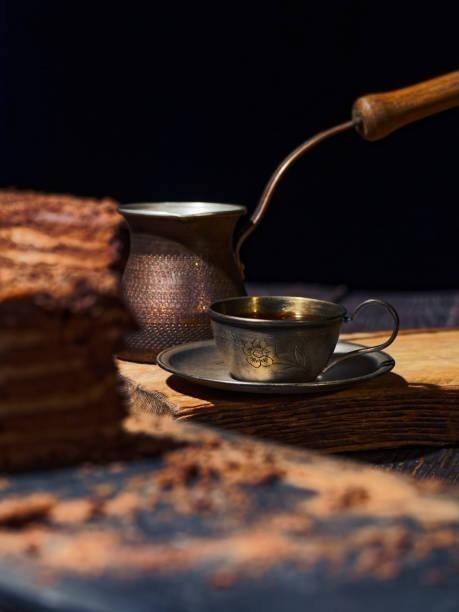cup-handle: (206, 294, 400, 384)
